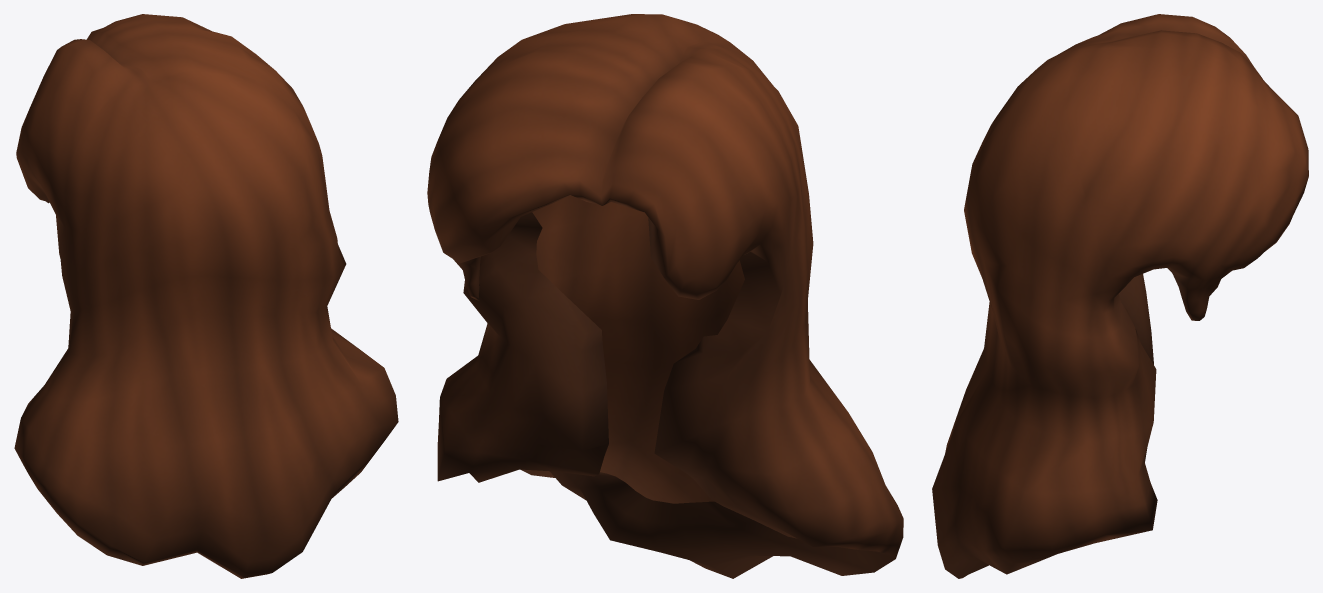
Rendered from Hair_Female_003_textured_brown.glb.
3 views of the same model, side by side, from view 1: azimuth 30°, elevation 25°; view 2: azimuth 150°, elevation 25°; view 3: azimuth 270°, elevation 25° (orthographic). The views are drawn at different scales.
Parts seen in each view (by area): view 1: Hair_Female_003; view 2: Hair_Female_003; view 3: Hair_Female_003.
Boxes of the visible parts, left/top/right/bottom form: Hair_Female_003: left=14, top=14, right=398, bottom=578; Hair_Female_003: left=427, top=14, right=903, bottom=578; Hair_Female_003: left=932, top=14, right=1308, bottom=578.
Bounding box in the file's own units: 0.2864 × 0.3854 × 0.2514.
Materials: 1 (1 with a texture image).
